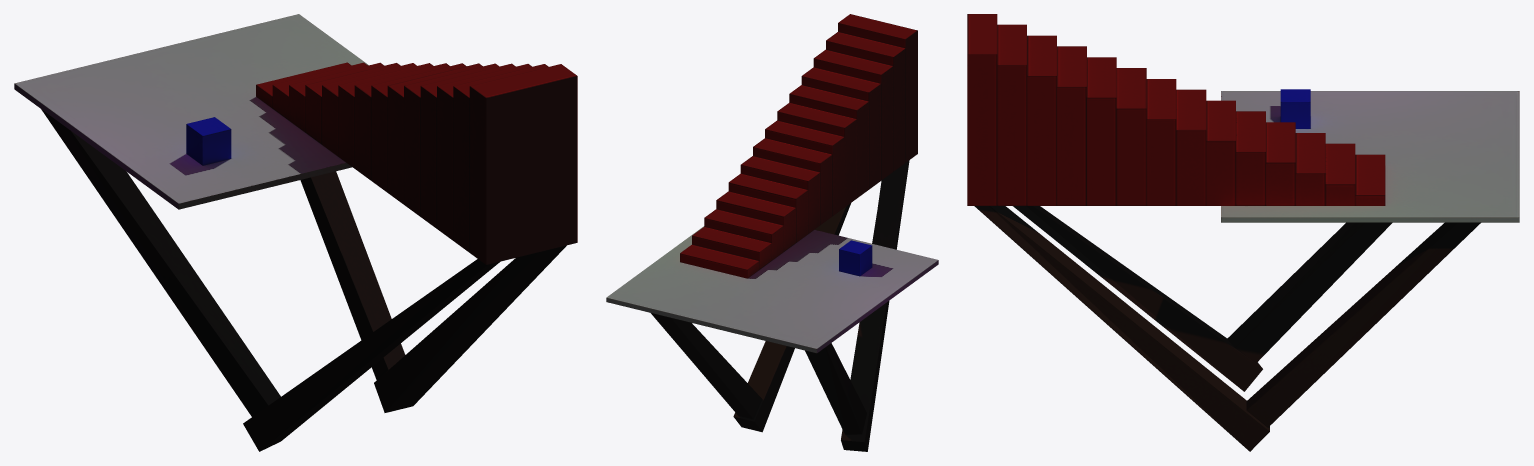
The model's file is demo_w001_stairs.obj.
The picture shows the model from 3 angles, left to right: view 1: azimuth 30°, elevation 25°; view 2: azimuth 150°, elevation 25°; view 3: azimuth 270°, elevation 25°; orthographic projection. The views are drawn at different scales.
Parts seen in each view (by area): view 1: Cube.002; view 2: Cube.002; view 3: Cube.002.
Part boxes in pixels (box(x1,y1,x2,y2)): Cube.002: box(14, 14, 577, 451); Cube.002: box(606, 14, 938, 451); Cube.002: box(967, 14, 1519, 451).
Bounding box in the file's own units: 80 × 119 × 148.
Materials: 1 (1 with a texture image).
